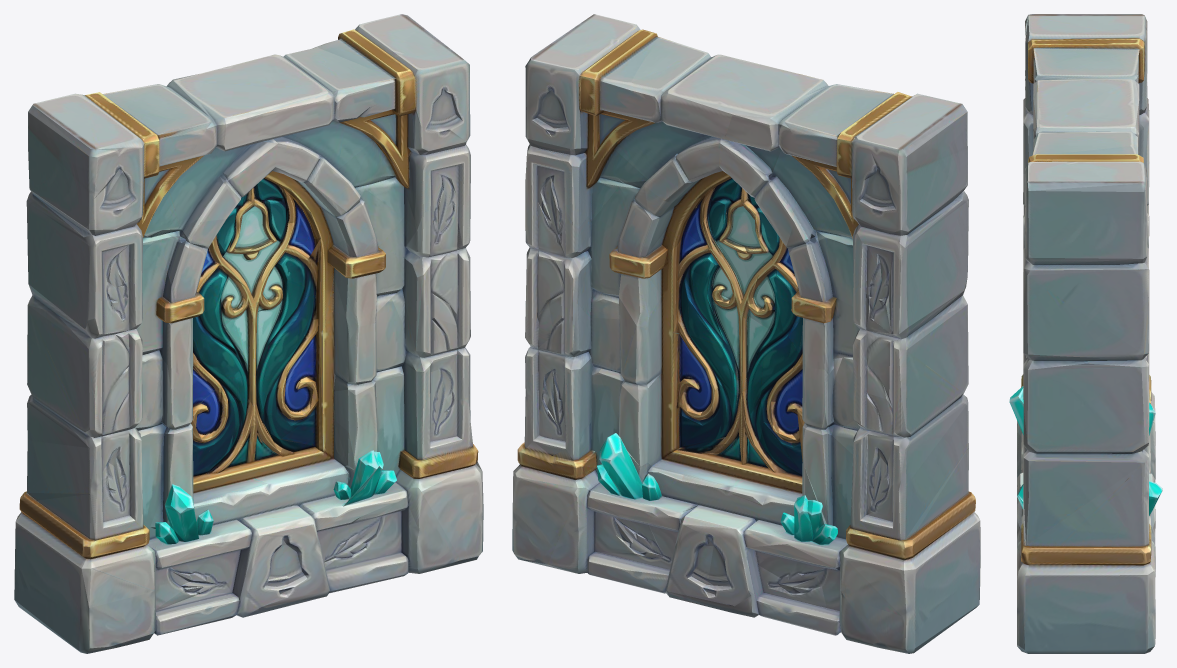
The model's file is gh_wall_arch.fbx.
3 views of the same model, side by side, from view 1: azimuth 30°, elevation 25°; view 2: azimuth 150°, elevation 25°; view 3: azimuth 270°, elevation 25° (orthographic). The views are drawn at different scales.
Visible parts, largest first — view 1: gh_wall_arch; view 2: gh_wall_arch; view 3: gh_wall_arch.
Part boxes in pixels (x1,y1,x2,y2): gh_wall_arch: (14,14,483,653); gh_wall_arch: (512,14,980,653); gh_wall_arch: (1009,14,1162,653).
Bounding box in the file's own units: 6.32 × 7.5 × 2.24.
